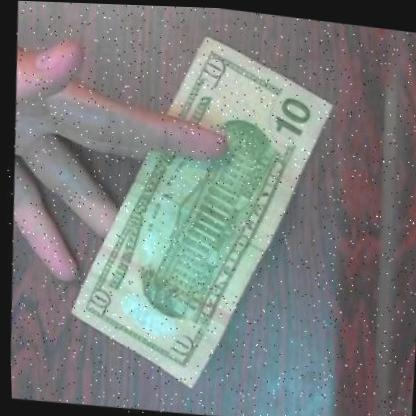ten-back: (43, 12, 355, 412)
